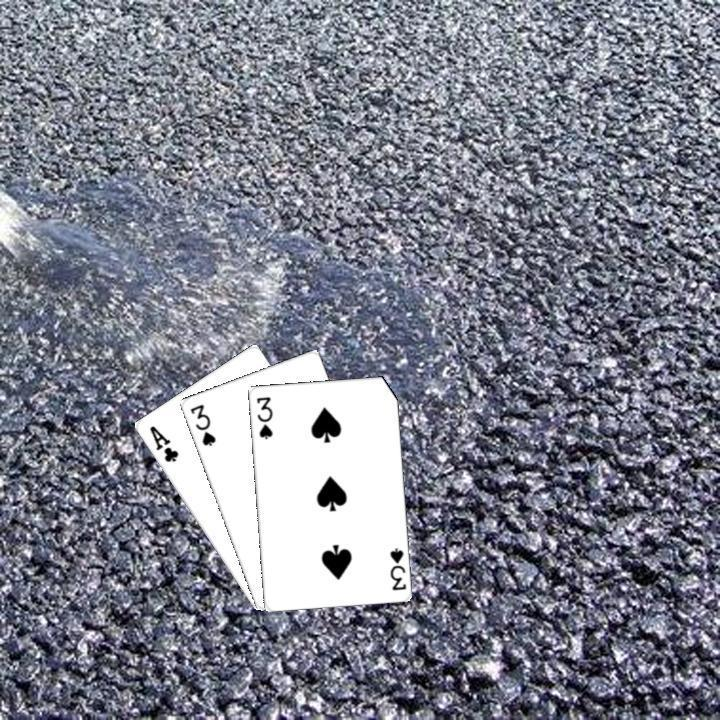3: (185, 400, 218, 448), (252, 392, 274, 441), (385, 543, 407, 592)
A: (145, 421, 180, 464)
